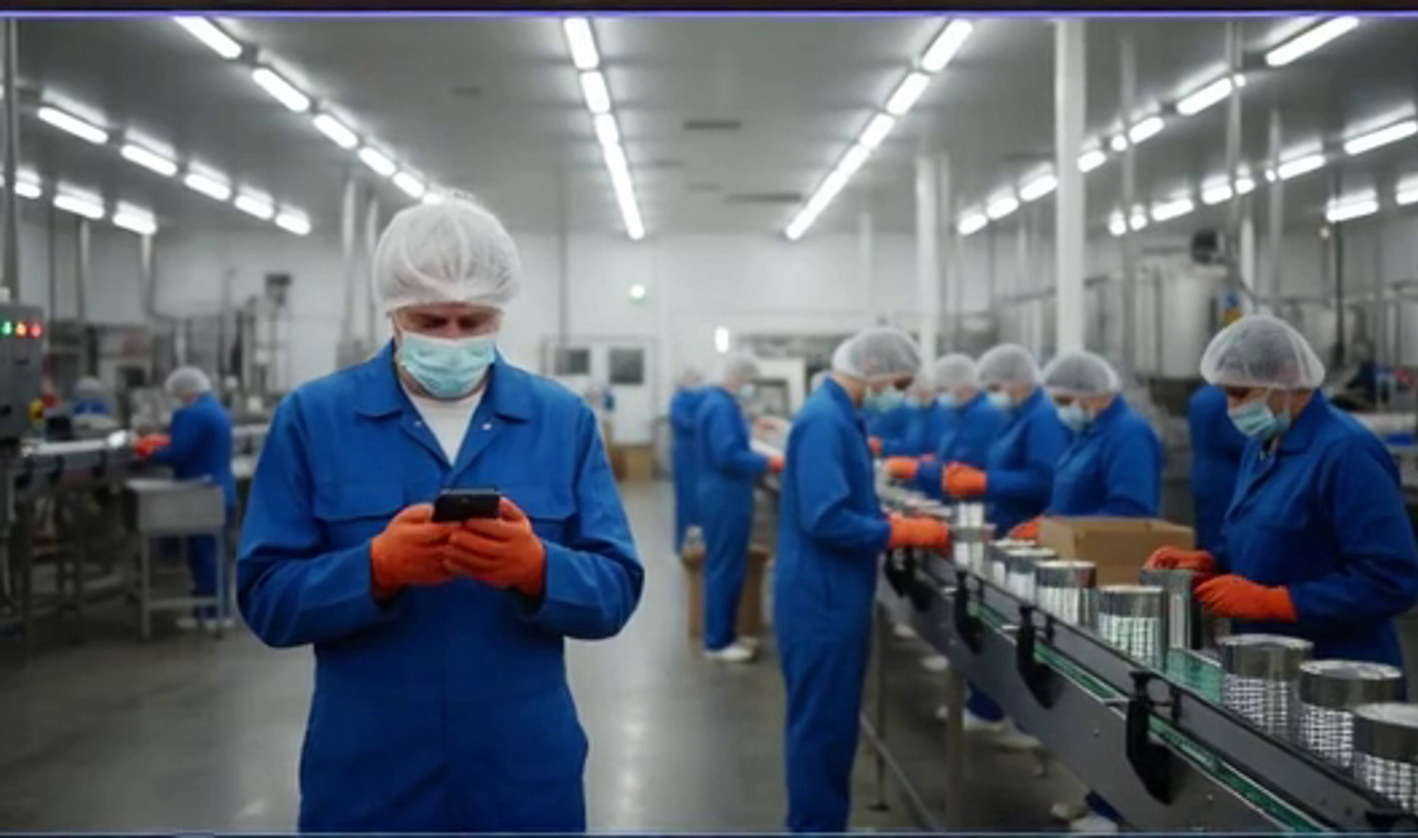employé: (324, 184, 587, 789), (781, 301, 902, 806), (1204, 312, 1346, 590), (706, 336, 786, 655), (152, 344, 246, 584), (1047, 343, 1144, 551), (656, 356, 703, 610), (987, 330, 1046, 499), (928, 331, 986, 496), (903, 352, 938, 466)
employé actif: (815, 331, 905, 783), (1207, 334, 1321, 572), (709, 358, 766, 642), (1047, 361, 1126, 496), (163, 366, 222, 491), (988, 341, 1039, 473), (669, 362, 700, 564), (930, 351, 980, 467), (902, 373, 940, 454)
employé inactif: (358, 233, 532, 704)
machine: (913, 559, 1394, 816), (12, 409, 253, 622)
